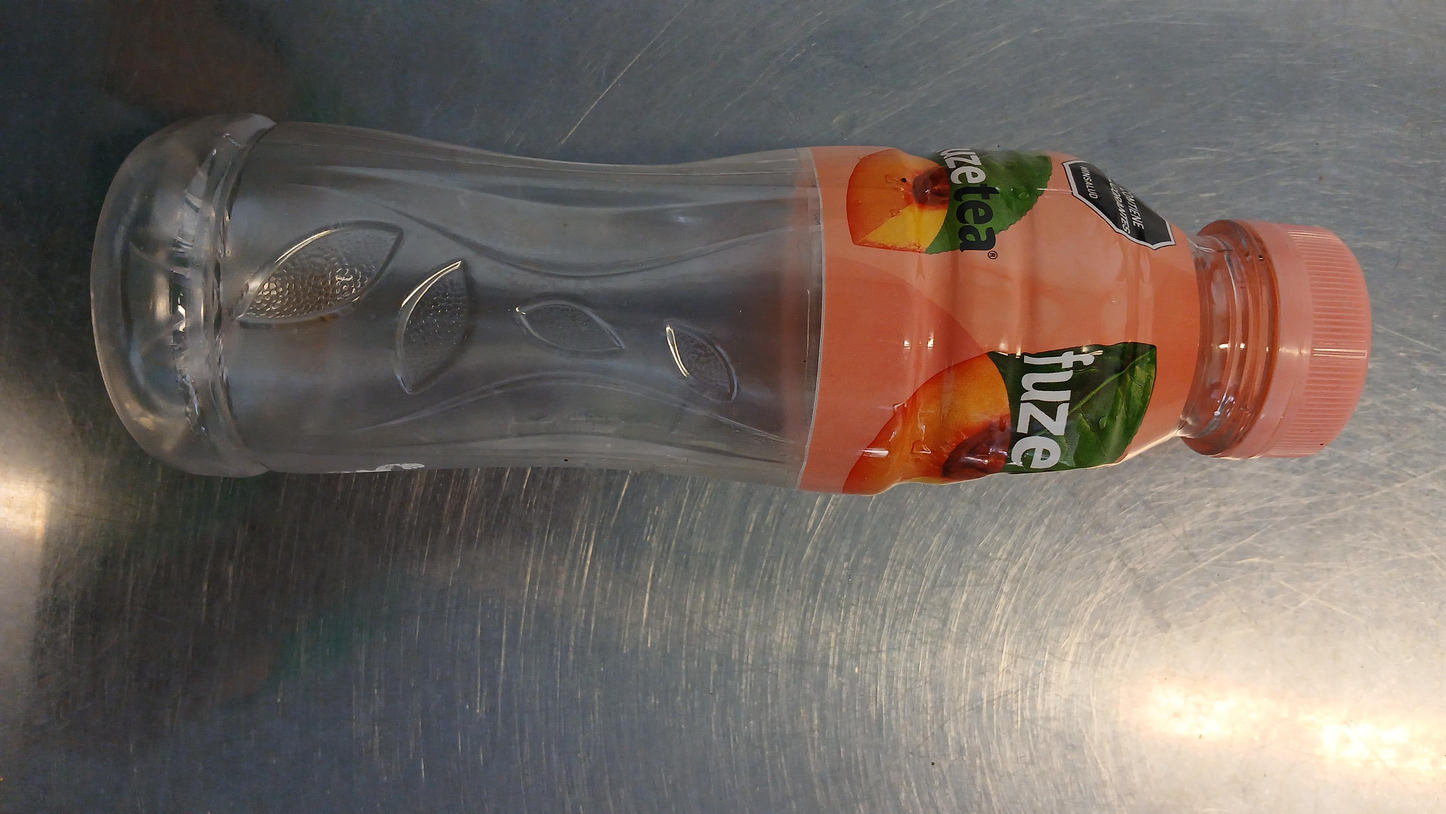Plastico: (93, 115, 1368, 497)
